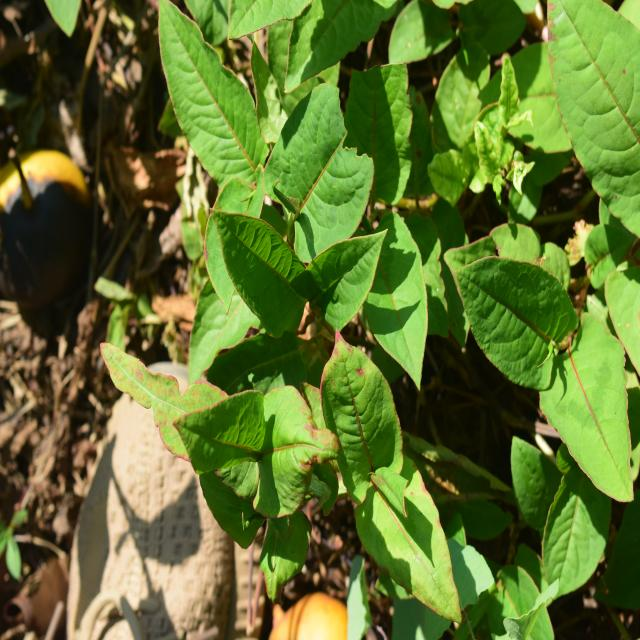Chinese_knotweed: (155, 30, 435, 392), (164, 326, 466, 614)
